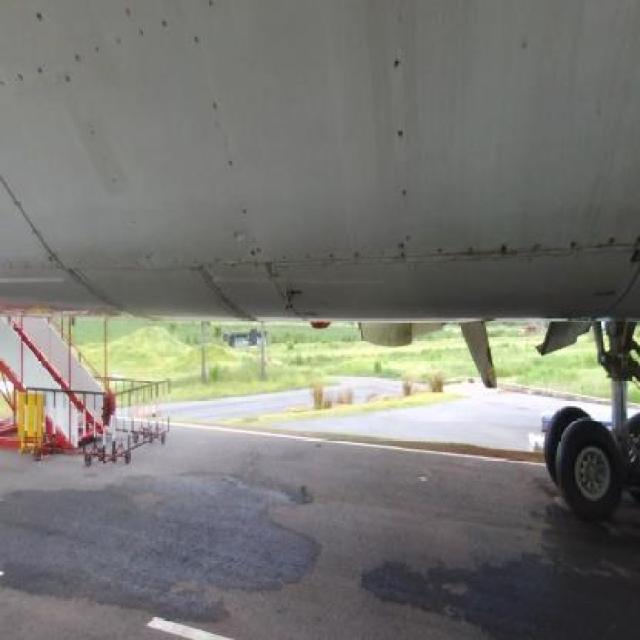Missing-Rivet: (188, 27, 268, 259), (312, 235, 628, 274), (383, 18, 425, 262), (15, 38, 127, 91)
